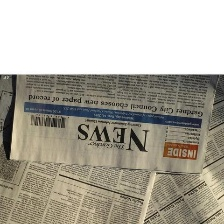news_paper: (2, 74, 221, 178), (0, 118, 159, 223), (138, 73, 224, 223)
